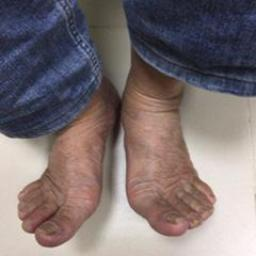Front View -Both Feet-: (11, 53, 222, 251)
